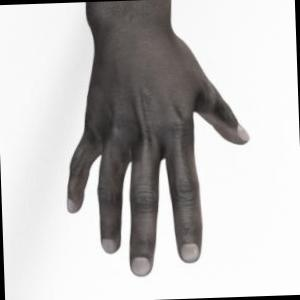paper: (68, 0, 249, 276)
